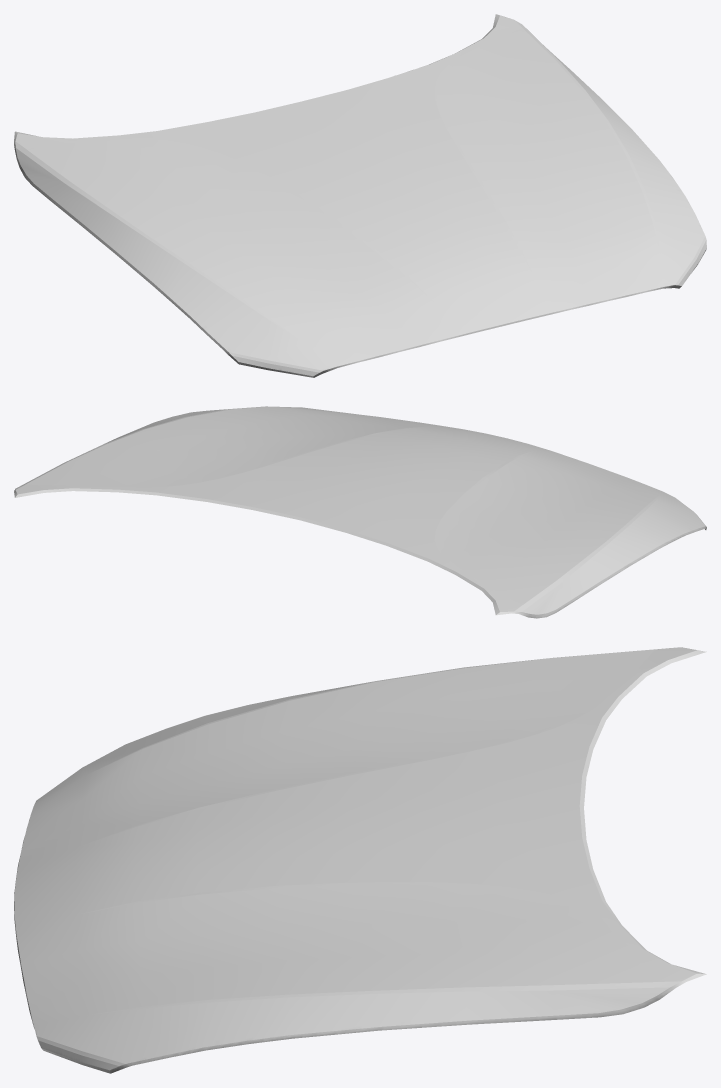
File: M2hood.glb
3 views of the same model, one above another, from view 1: azimuth 30°, elevation 25°; view 2: azimuth 150°, elevation 25°; view 3: azimuth 270°, elevation 25° (orthographic). The views are drawn at different scales.
Visible parts, largest first — view 1: Object_92; view 2: Object_92; view 3: Object_92.
Boxes of the visible parts, x1=… form: Object_92: x1=14, y1=14, x2=706, y2=377; Object_92: x1=14, y1=406, x2=706, y2=618; Object_92: x1=14, y1=647, x2=706, y2=1073.
Size of the model in its own units: 1.53 by 0.2491 by 1.28.
Materials: 1 (1 with a texture image).
